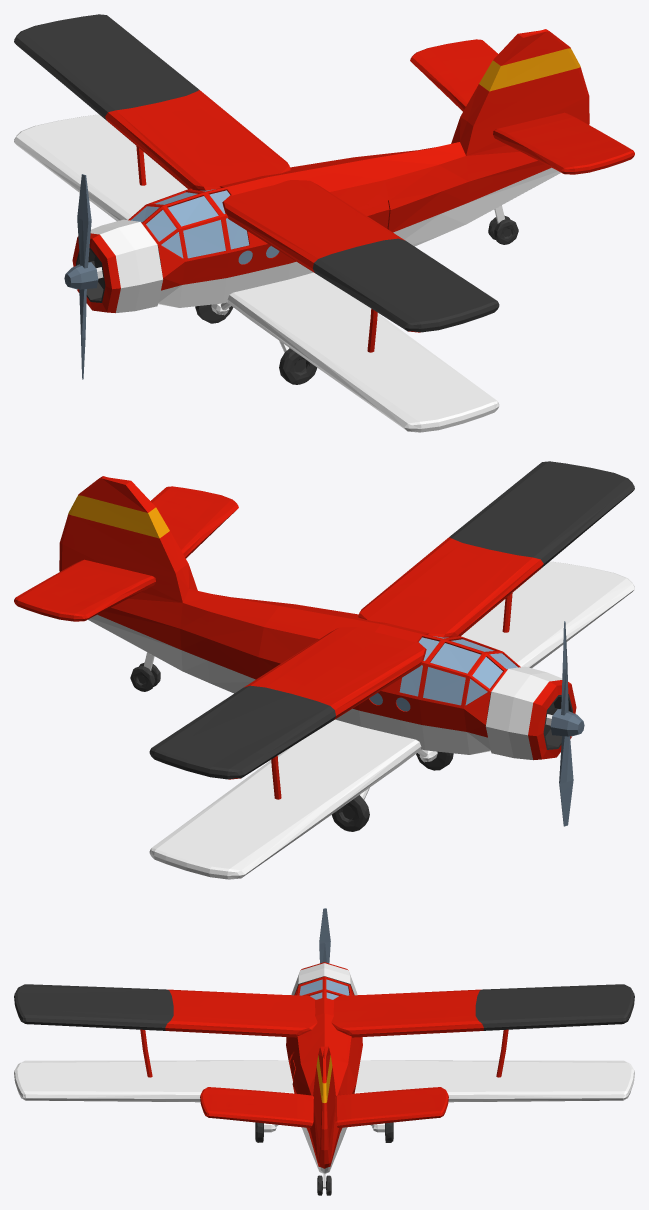
Rendered from aircraft_red.fbx.
3 renders of one model, top to bottom at view 1: azimuth 30°, elevation 25°; view 2: azimuth 150°, elevation 25°; view 3: azimuth 270°, elevation 25°, orthographic. The views are drawn at different scales.
Visible parts, largest first — view 1: aircraft_red, wind.001; view 2: aircraft_red, wind.001; view 3: aircraft_red, wind.001.
Boxes of the visible parts, left/top/right/bottom form: aircraft_red: left=14, top=14, right=634, bottom=432; wind.001: left=64, top=174, right=98, bottom=379; aircraft_red: left=14, top=461, right=634, bottom=879; wind.001: left=550, top=621, right=584, bottom=826; aircraft_red: left=14, top=962, right=634, bottom=1195; wind.001: left=319, top=908, right=330, bottom=963.
Size of the model in its own units: 11.57 by 5.37 by 15.61.
